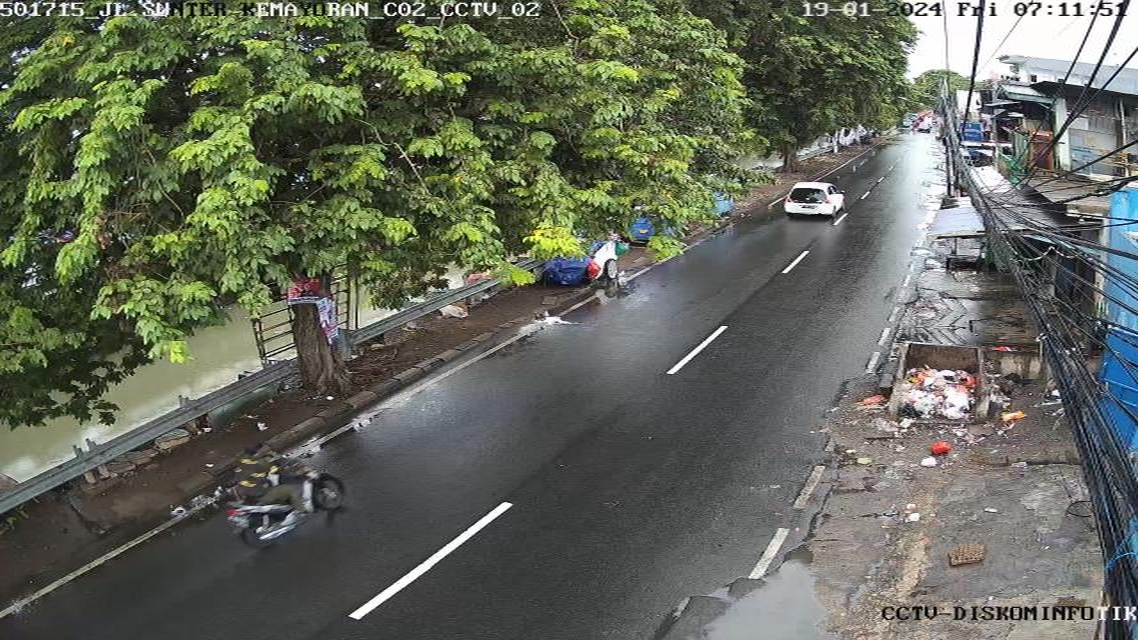Gerobak: (541, 243, 637, 283)
